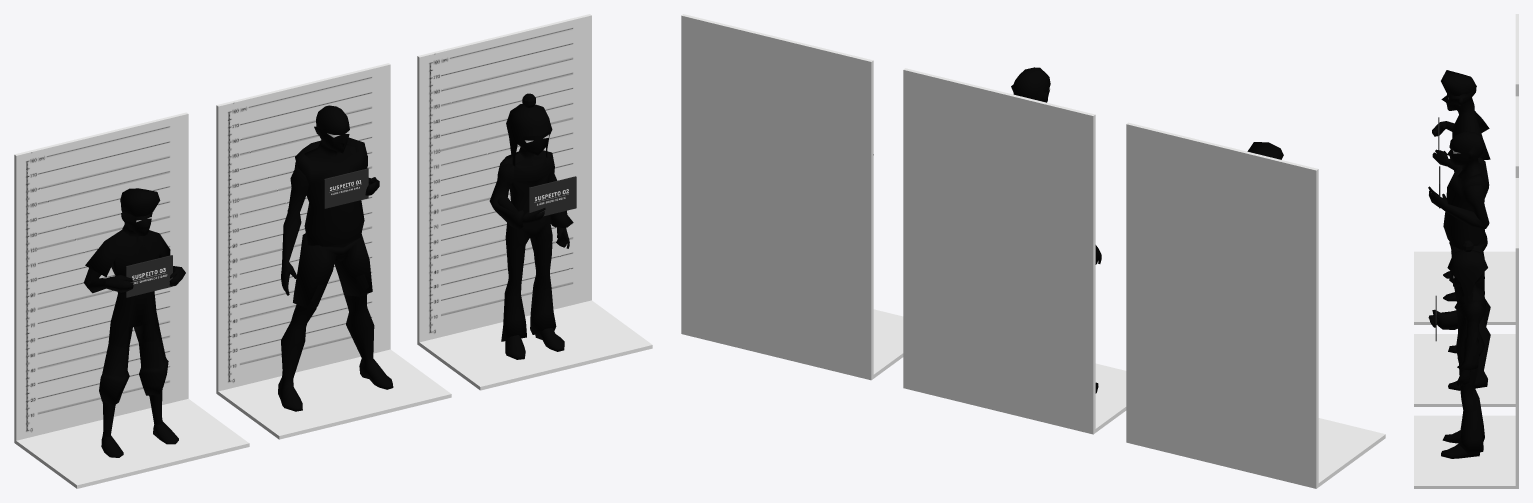
Rendered from Cena sus.fbx.
The picture shows the model from 3 angles, left to right: view 1: azimuth 30°, elevation 25°; view 2: azimuth 150°, elevation 25°; view 3: azimuth 270°, elevation 25°; orthographic projection. The views are drawn at different scales.
Visible parts, largest first — view 1: Plane.005, Plane.004, Plane.001, Cube.007, Cube.001, Cube.003, Plane.002, Plane.003, Plane; view 2: Plane.004, Plane.001, Plane.005, Cube.007; view 3: Plane.005, Cube.003, Plane.001, Cube.007, Plane.004, Cube.001.
Part boxes in pixels (<box>): Plane.005: <box>417,14,652,390</box>; Plane.004: <box>14,112,249,488</box>; Plane.001: <box>216,63,451,439</box>; Cube.007: <box>278,105,393,411</box>; Cube.001: <box>84,188,185,457</box>; Cube.003: <box>489,93,573,359</box>; Plane.002: <box>529,176,576,216</box>; Plane.003: <box>126,255,172,297</box>; Plane: <box>324,168,368,208</box>; Plane.004: <box>1126,122,1385,488</box>; Plane.001: <box>903,68,1126,434</box>; Plane.005: <box>681,14,903,380</box>; Cube.007: <box>1011,67,1101,393</box>; Plane.005: <box>1414,178,1518,488</box>; Cube.003: <box>1428,240,1487,458</box>; Plane.001: <box>1414,96,1518,406</box>; Cube.007: <box>1428,131,1490,390</box>; Plane.004: <box>1414,14,1518,324</box>; Cube.001: <box>1432,70,1490,301</box>.
Size of the model in its own units: 894 by 428 by 169.
6 materials, 2 textured.
